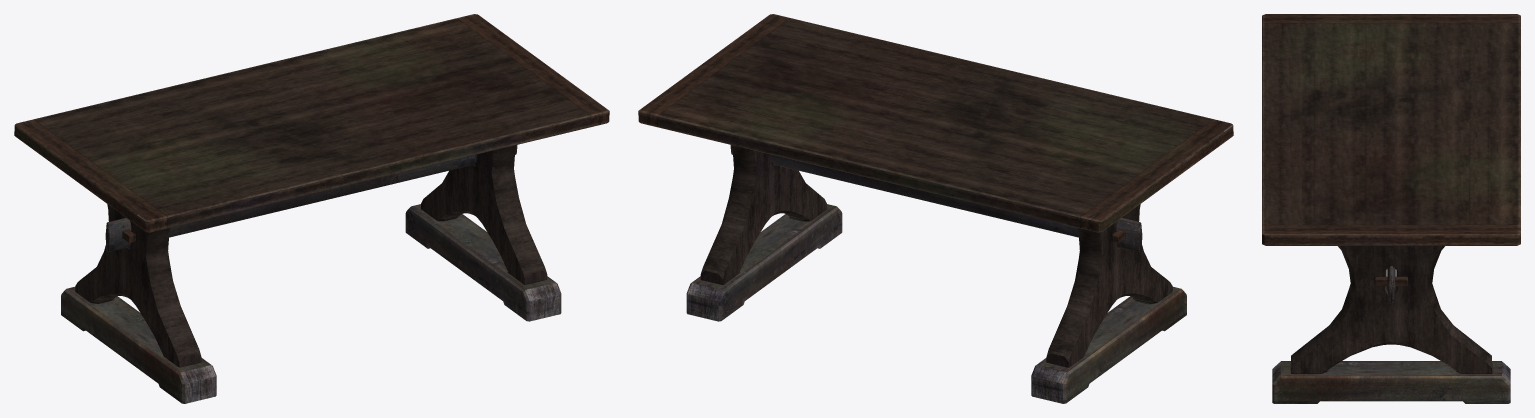
The model's file is wooden_table.glb.
3 views of the same model, side by side, from view 1: azimuth 30°, elevation 25°; view 2: azimuth 150°, elevation 25°; view 3: azimuth 270°, elevation 25° (orthographic). The views are drawn at different scales.
Parts seen in each view (by area): view 1: Desk_LP; view 2: Desk_LP; view 3: Desk_LP.
Boxes of the visible parts, x1,y1,x2,y2 form: Desk_LP: (14, 14, 609, 403); Desk_LP: (638, 14, 1233, 403); Desk_LP: (1262, 14, 1520, 403).
Bounding box in the file's own units: 2 × 0.8184 × 1.
Materials: 1 (1 with a texture image).
